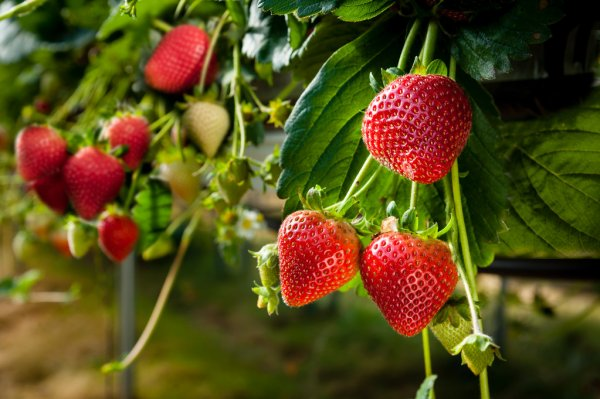ripe: (361, 69, 474, 186), (359, 225, 460, 339), (276, 206, 372, 307), (144, 23, 214, 95), (70, 139, 129, 213), (97, 109, 153, 170), (14, 122, 69, 183), (91, 208, 141, 265)
unripe: (181, 101, 228, 158), (61, 208, 97, 258), (22, 200, 62, 236), (9, 229, 41, 264)
